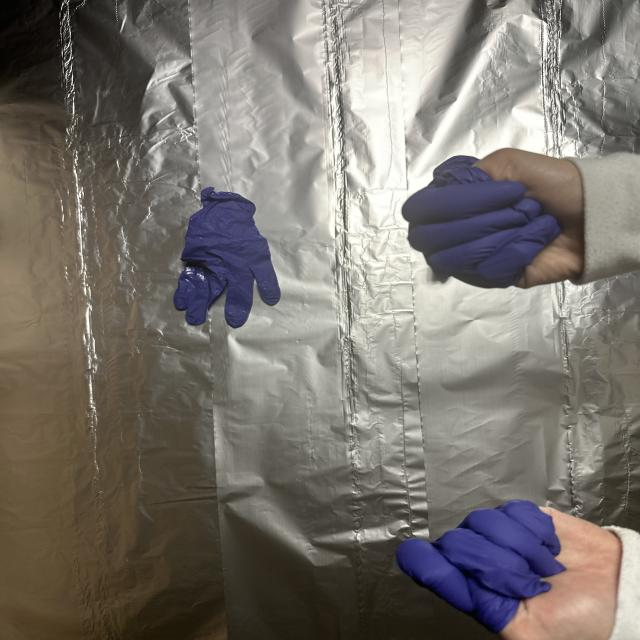glove_partial: (390, 495, 626, 640), (402, 143, 596, 290)
